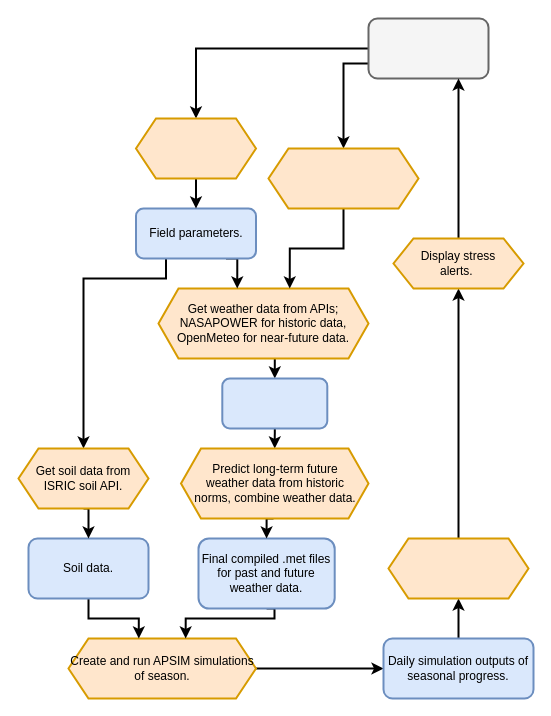
Some shapes in this 551 by 716 pixel diagram are drawn without their labels. Here are the shapes that lost their labels. From the top down, the centre of each, then its label:
At point (428, 48): "FieldRisk Dashboard".
At point (195, 148): "Edit field info through dashboard.".
At point (343, 178): "Call daily update of weather information.".
At point (274, 403): "Collection of .met weather files".
At point (458, 568): "Process simulation outputs, update dashboard.".
